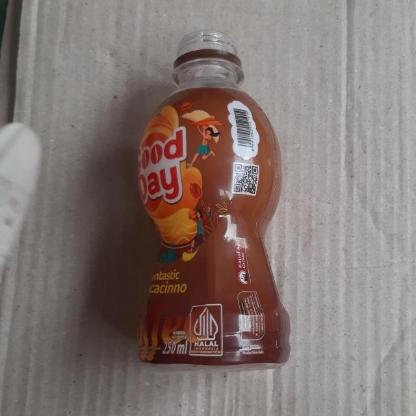Plastic Bottle: (138, 32, 292, 374)
